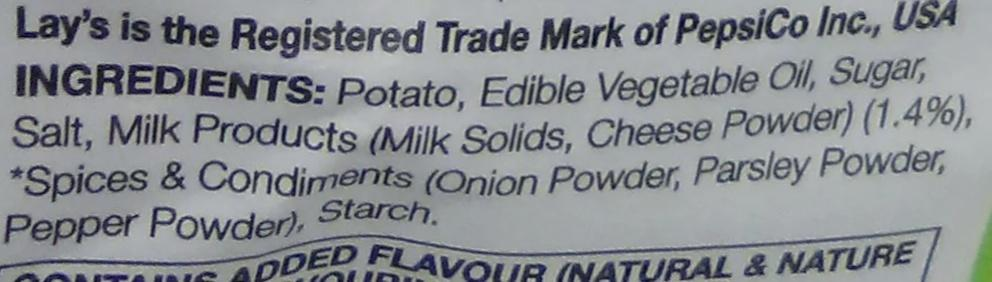ingredients: (5, 61, 992, 252)
